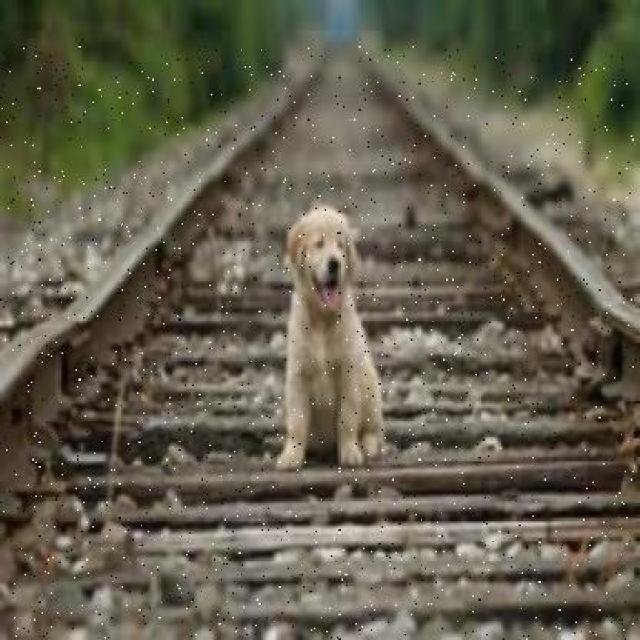danger: (268, 205, 390, 472)
rail: (0, 46, 634, 640)
